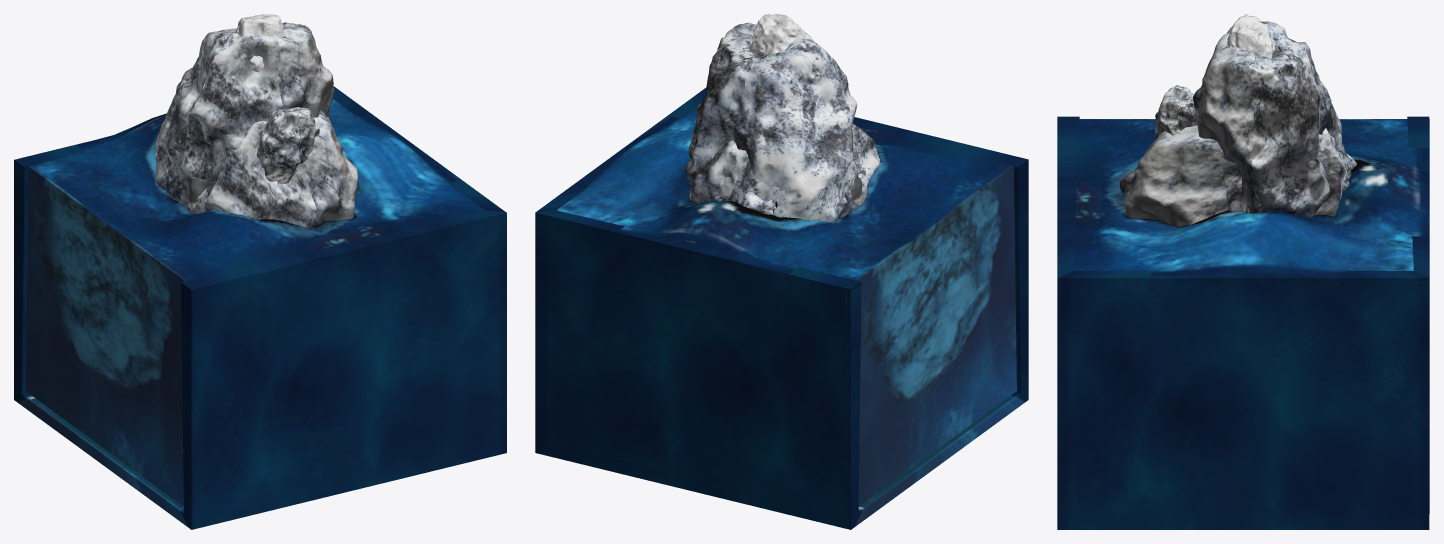
The model's file is iceber.glb.
3 renders of one model, left to right at view 1: azimuth 30°, elevation 25°; view 2: azimuth 150°, elevation 25°; view 3: azimuth 270°, elevation 25°, orthographic. The views are drawn at different scales.
Parts seen in each view (by area): view 1: Cube.002, Cube.001, ASTEROID_LOW_POLY_1_.001, ASTEROID_LOW_POLY_1_.002, ASTEROID_LOW_POLY_1_.003, ASTEROID_LOW_POLY_1_.004; view 2: Cube.001, ASTEROID_LOW_POLY_1_.001, Cube.002, ASTEROID_LOW_POLY_1_.002, ASTEROID_LOW_POLY_1_.004; view 3: Cube.002, Cube.001, ASTEROID_LOW_POLY_1_.001, ASTEROID_LOW_POLY_1_.002, ASTEROID_LOW_POLY_1_.003, ASTEROID_LOW_POLY_1_.004.
Boxes of the visible parts, box(x1,y1,x2,y2) form: Cube.002: box(14, 86, 506, 529); Cube.001: box(25, 99, 485, 506); ASTEROID_LOW_POLY_1_.001: box(155, 22, 334, 210); ASTEROID_LOW_POLY_1_.002: box(169, 103, 357, 227); ASTEROID_LOW_POLY_1_.003: box(256, 107, 319, 183); ASTEROID_LOW_POLY_1_.004: box(233, 14, 284, 72); Cube.001: box(539, 108, 1016, 515); ASTEROID_LOW_POLY_1_.001: box(685, 22, 862, 222); Cube.002: box(535, 87, 1028, 529); ASTEROID_LOW_POLY_1_.002: box(685, 123, 880, 243); ASTEROID_LOW_POLY_1_.004: box(749, 14, 804, 71); Cube.002: box(1057, 116, 1429, 529); Cube.001: box(1073, 119, 1429, 513); ASTEROID_LOW_POLY_1_.001: box(1193, 21, 1351, 218); ASTEROID_LOW_POLY_1_.002: box(1119, 125, 1356, 226); ASTEROID_LOW_POLY_1_.003: box(1154, 85, 1197, 139); ASTEROID_LOW_POLY_1_.004: box(1227, 14, 1275, 101).
Bounding box in the file's own units: 0.4665 × 0.5791 × 0.4552.
4 materials, 3 textured.
